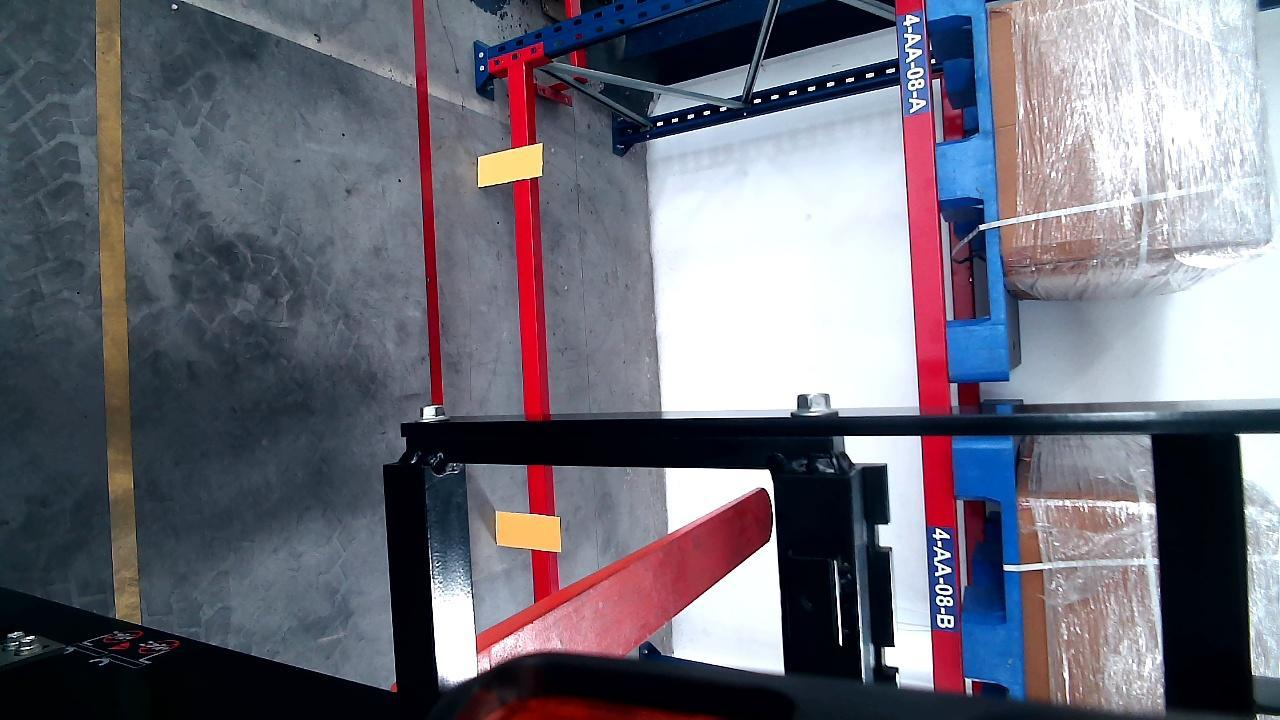red_line: (414, 0, 446, 414)
yellow_line: (94, 0, 141, 626)
